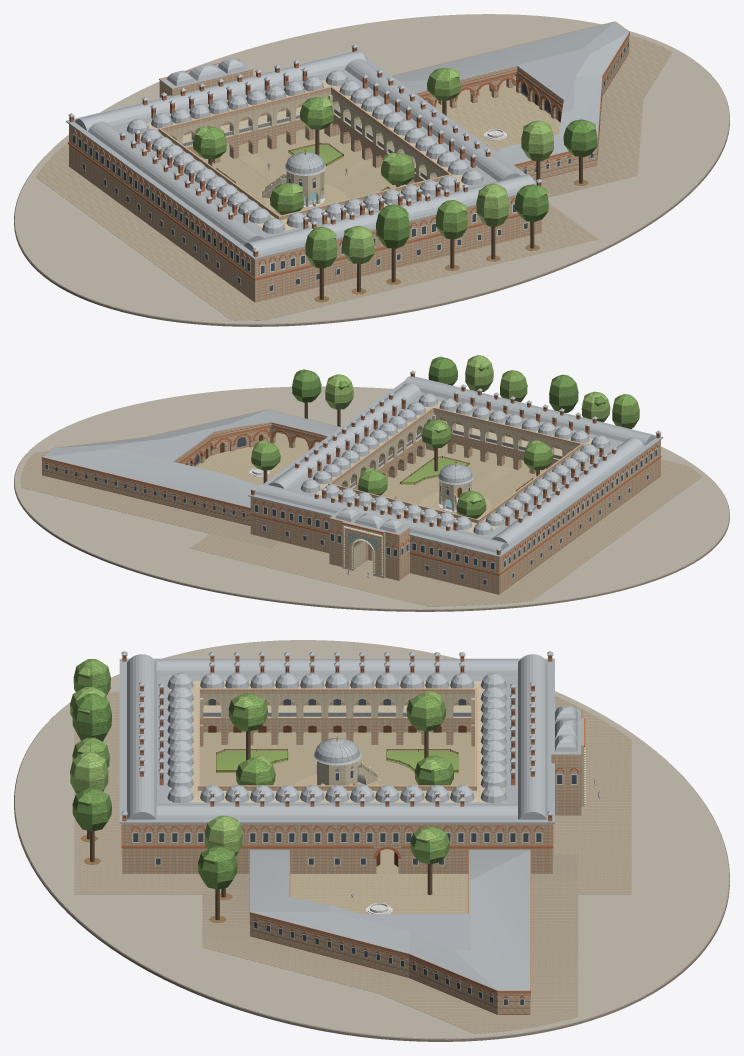
Rendered from koza-han_v14_sunum.glb.
3 renders of one model, top to bottom at view 1: azimuth 30°, elevation 25°; view 2: azimuth 150°, elevation 25°; view 3: azimuth 270°, elevation 25°, orthographic. The views are drawn at different scales.
Parts seen in each view (by area): view 1: Zemin_Kaide, Cevre_Doseme, Cati, Govde_Dis, Ic_Koza, Kubbe_Avlu, Avlu_Zemin, Avlu_Revak, Baca, Avlu_Agac, Cephe, Portal (+12 smaller); view 2: Zemin_Kaide, Cevre_Doseme, Ic_Koza, Cati, Govde_Dis, Kubbe_Avlu, Avlu_Zemin, Avlu_Revak, Portal, Baca, Avlu_Agac, Cephe (+12 smaller); view 3: Zemin_Kaide, Cevre_Doseme, Cati, Ic_Koza, Govde_Dis, Avlu_Zemin, Kubbe_Avlu, Avlu_Revak, Avlu_Agac, Baca, Cephe, Portal (+11 smaller).
Boxes of the visible parts, x1,y1,x2,y2 form: Zemin_Kaide: (14, 14, 729, 326); Cevre_Doseme: (36, 35, 672, 320); Cati: (66, 50, 542, 259); Govde_Dis: (69, 69, 541, 302); Ic_Koza: (392, 21, 629, 180); Kubbe_Avlu: (126, 70, 483, 233); Avlu_Zemin: (201, 76, 560, 215); Avlu_Revak: (125, 79, 484, 234); Baca: (68, 44, 542, 257); Avlu_Agac: (193, 67, 460, 215); Cephe: (72, 92, 528, 291); Portal: (159, 58, 252, 97); Zemin_Kaide: (14, 386, 729, 611); Cevre_Doseme: (20, 451, 701, 606); Ic_Koza: (41, 409, 340, 525); Cati: (248, 376, 663, 557); Govde_Dis: (250, 392, 660, 594); Kubbe_Avlu: (300, 393, 610, 535); Avlu_Zemin: (195, 432, 545, 519); Avlu_Revak: (300, 401, 611, 535); Portal: (328, 508, 410, 580); Baca: (250, 370, 661, 555); Avlu_Agac: (251, 419, 553, 518); Cephe: (253, 444, 657, 585); Zemin_Kaide: (14, 640, 729, 1041); Cevre_Doseme: (74, 692, 631, 1033); Cati: (119, 654, 554, 823); Ic_Koza: (249, 849, 530, 1014); Govde_Dis: (122, 675, 552, 873); Avlu_Zemin: (200, 732, 474, 913); Kubbe_Avlu: (167, 672, 507, 803); Avlu_Revak: (170, 681, 504, 802); Avlu_Agac: (228, 691, 454, 894); Baca: (121, 651, 553, 821); Cephe: (121, 760, 581, 865); Portal: (551, 706, 585, 815).
Size of the model in its own units: 158 by 16.92 by 120.
Materials: 44 (21 with a texture image).
